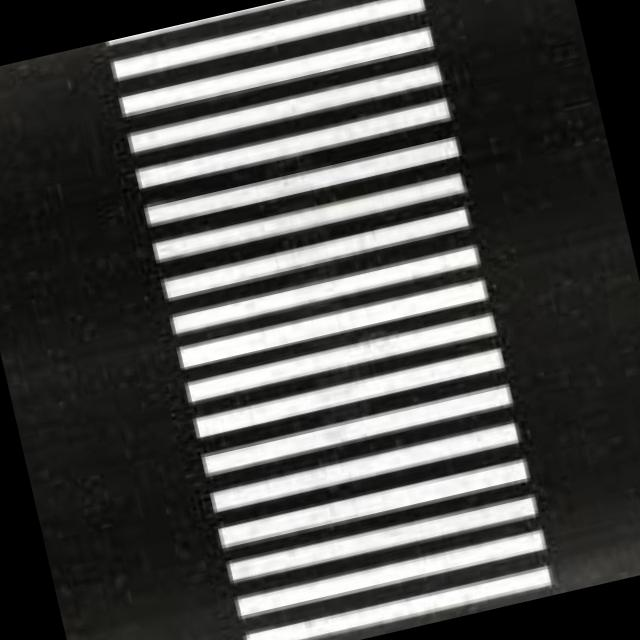zebra: (103, 0, 565, 640)
